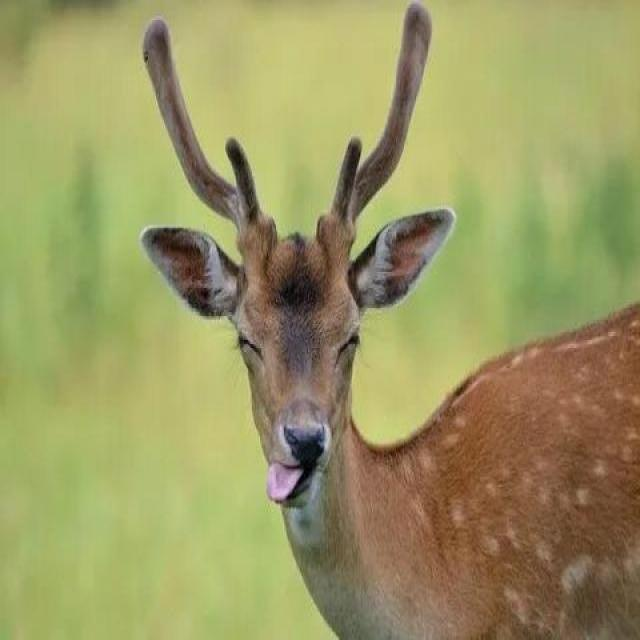deer: (119, 9, 640, 640)
